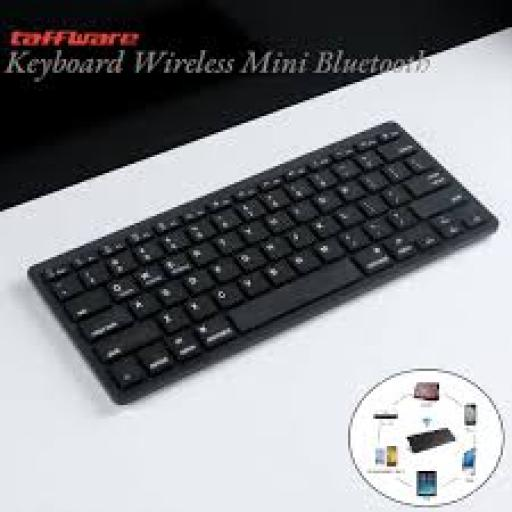keyboard: (30, 121, 496, 403)
